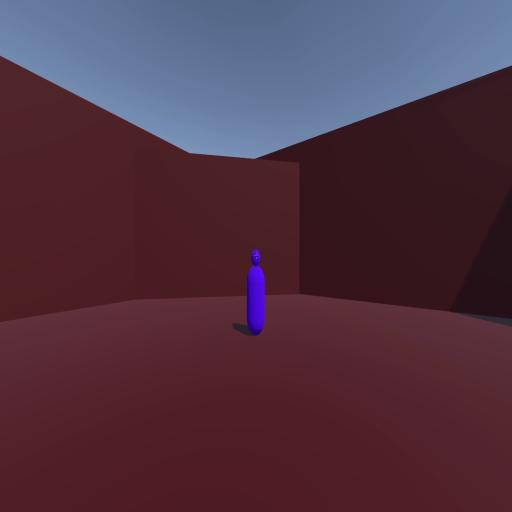Crosshair: (254, 252, 259, 260)
Target: (246, 246, 265, 337)
